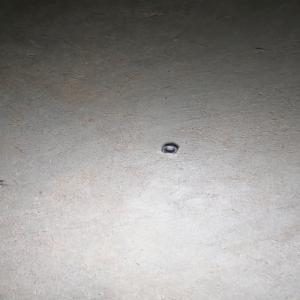Nut: (159, 144, 177, 155)
